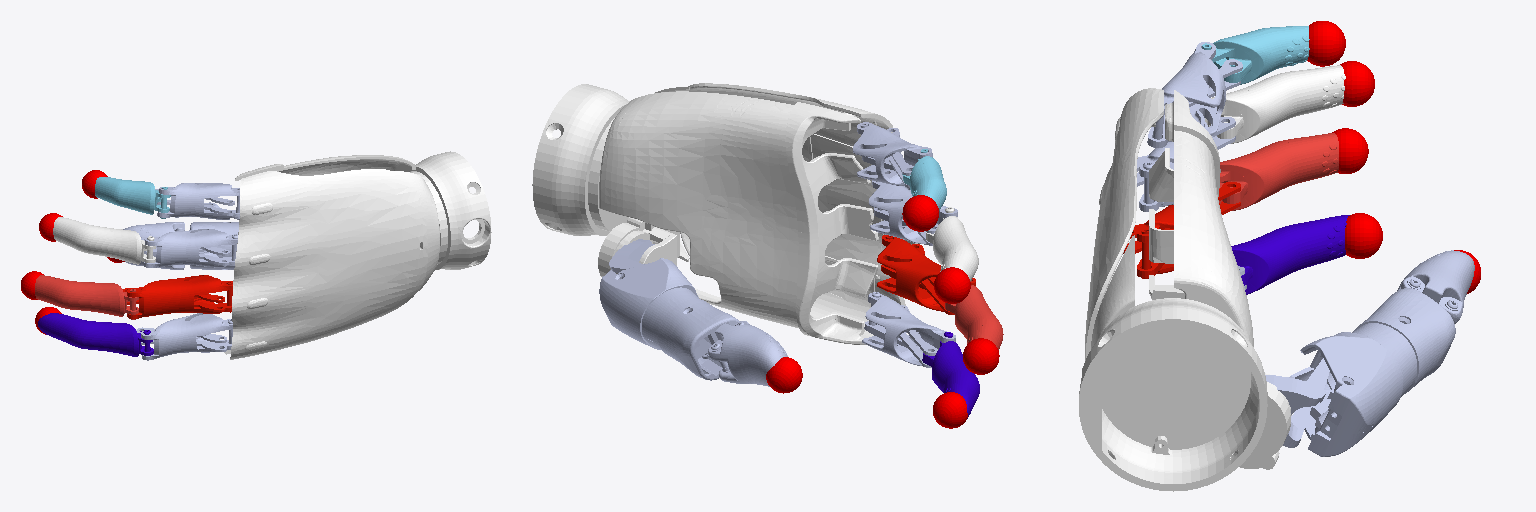
robot.urdf — urdf_v2:
<?xml version="1.0" encoding="utf-8"?>
<!-- This URDF was automatically created by SolidWorks to URDF Exporter! Originally created by [author] ([email redacted]) 
     Commit Version: 1.6.0-4-g7f85cfe  Build Version: 1.6.7995.38578
     For more information, please see http://wiki.ros.org/sw_urdf_exporter -->
<robot
  name="urdf_v2">
  <link
    name="base_link">
    <inertial>
      <origin
        xyz="0.0282680334155116 -0.00155312878370573 0.0090688183026775"
        rpy="0 0 0" />
      <mass
        value="0.0410424762542632" />
      <inertia
        ixx="1.67808110422422E-05"
        ixy="-1.38161155616436E-06"
        ixz="2.77639403016102E-07"
        iyy="1.59956087599769E-05"
        iyz="-2.84757118052629E-07"
        izz="2.62608804201258E-05" />
    </inertial>
    <visual>
      <origin
        xyz="0 0 0"
        rpy="0 0 0" />
      <geometry>
        <mesh
          filename="./base_link.STL" />
      </geometry>
      <material
        name="">
        <color
          rgba="1 1 1 1" />
      </material>
    </visual>
    <collision>
      <origin
        xyz="0 0 0"
        rpy="0 0 0" />
      <geometry>
        <mesh
          filename="./base_link.STL" />
      </geometry>
    </collision>
  </link>
  <link
    name="ff_proximal_link">
    <inertial>
      <origin
        xyz="-0.015386 -0.0066062 -0.0079647"
        rpy="0 0 0" />
      <mass
        value="0.0018523" />
      <inertia
        ixx="8.5863E-08"
        ixy="-4.71E-09"
        ixz="-4.397E-08"
        iyy="1.886E-07"
        iyz="-2.9657E-09"
        izz="1.808E-07" />
    </inertial>
    <visual>
      <origin
        xyz="0 0 0"
        rpy="0 0 0" />
      <geometry>
        <mesh
          filename="./ff_proximal_link.STL" />
      </geometry>
      <material
        name="">
        <color
          rgba="0.79216 0.81961 0.93333 1" />
      </material>
    </visual>
    <collision>
      <origin
        xyz="0 0 0"
        rpy="0 0 0" />
      <geometry>
        <mesh
          filename="./ff_proximal_link.STL" />
      </geometry>
    </collision>
  </link>
  <joint
    name="ff_proximal_joint"
    type="revolute">
    <origin
      xyz="-0.03826 -0.011678 -0.023531"
      rpy="1.5708 0 0" />
    <parent
      link="base_link" />
    <child
      link="ff_proximal_link" />
    <axis
      xyz="0 1 0" />
    <limit
      lower="-1.23"
      upper="0.34"
      effort="50"
      velocity="1" />
  </joint>
  <link
    name="ff_distal_link">
    <inertial>
      <origin
        xyz="-0.0136744559671081 -0.00546355961032156 -0.0194579532929323"
        rpy="0 0 0" />
      <mass
        value="0.00411870576106074" />
      <inertia
        ixx="3.84711901595296E-07"
        ixy="6.16480172234882E-09"
        ixz="-2.5005841513438E-07"
        iyy="5.74190965189268E-07"
        iyz="6.30974065938001E-09"
        izz="2.65068505295533E-07" />
    </inertial>
    <visual>
      <origin
        xyz="0 0 0"
        rpy="0 0 0" />
      <geometry>
        <mesh
          filename="./ff_distal_link.STL" />
      </geometry>
      <material
        name="">
        <color
          rgba="0.282352941176471 0.0313725490196078 0.815686274509804 1" />
      </material>
    </visual>
    <collision>
      <origin
        xyz="0 0 0"
        rpy="0 0 0" />
      <geometry>
        <mesh
          filename="./ff_distal_link.STL" />
      </geometry>
    </collision>
  </link>
  <joint
    name="ff_distal_joint"
    type="revolute">
    <origin
      xyz="-0.033944 -0.0018093 -0.011608"
      rpy="0 0 0" />
    <parent
      link="ff_proximal_link" />
    <child
      link="ff_distal_link" />
    <axis
      xyz="0 1 0" />
    <limit
      lower="-1.23"
      upper="0.34"
      effort="50"
      velocity="1" />
    <mimic 
      joint="ff_proximal_joint" 
      multiplier="1.0" 
      offset="-0." />
  </joint>
  <link
    name="lf_proximal_link">
    <inertial>
      <origin
        xyz="-0.0146092609512682 -0.0055508873917868 -0.00670762165904373"
        rpy="0 0 0" />
      <mass
        value="0.00164259183850072" />
      <inertia
        ixx="7.83650178895857E-08"
        ixy="4.1832976450397E-09"
        ixz="-3.3038131625674E-08"
        iyy="1.37775200510857E-07"
        iyz="3.38529940940638E-09"
        izz="1.31770538978944E-07" />
    </inertial>
    <visual>
      <origin
        xyz="0 0 0"
        rpy="0 0 0" />
      <geometry>
        <mesh
          filename="./lf_proximal_link.STL" />
      </geometry>
      <material
        name="">
        <color
          rgba="0.792156862745098 0.819607843137255 0.933333333333333 1" />
      </material>
    </visual>
    <collision>
      <origin
        xyz="0 0 0"
        rpy="0 0 0" />
      <geometry>
        <mesh
          filename="./lf_proximal_link.STL" />
      </geometry>
    </collision>
  </link>
  <joint
    name="lf_proximal_joint"
    type="revolute">
    <origin
      xyz="-0.033769 -0.011577 0.037146"
      rpy="1.5708 0 0" />
    <parent
      link="base_link" />
    <child
      link="lf_proximal_link" />
    <axis
      xyz="0 1 0" />
    <limit
      lower="-1.23"
      upper="0.34"
      effort="50"
      velocity="1" />
  </joint>
  <link
    name="lf_distal_link">
    <inertial>
      <origin
        xyz="-0.00921516331063749 -0.00657933694076938 -0.0137060475387422"
        rpy="0 0 0" />
      <mass
        value="0.00258549281540904" />
      <inertia
        ixx="1.24448167729541E-07"
        ixy="-7.90147373548682E-10"
        ixz="-5.47338391191158E-08"
        iyy="1.5333214661181E-07"
        iyz="4.20352585186048E-10"
        izz="7.16963433808903E-08" />
    </inertial>
    <visual>
      <origin
        xyz="0 0 0"
        rpy="0 0 0" />
      <geometry>
        <mesh
          filename="./lf_distal_link.STL" />
      </geometry>
      <material
        name="">
        <color
          rgba="0.576470588235294 0.850980392156863 0.945098039215686 1" />
      </material>
    </visual>
    <collision>
      <origin
        xyz="0 0 0"
        rpy="0 0 0" />
      <geometry>
        <mesh
          filename="./lf_distal_link.STL" />
      </geometry>
    </collision>
  </link>
  <joint
    name="lf_distal_joint"
    type="revolute">
    <origin
      xyz="-0.029536 0.0024174 -0.01189"
      rpy="0 0 0" />
    <parent
      link="lf_proximal_link" />
    <child
      link="lf_distal_link" />
    <axis
      xyz="0 1 0" />
    <limit
      lower="-1.23"
      upper="0.34"
      effort="50"
      velocity="1" />
    <mimic 
      joint="lf_proximal_joint" 
      multiplier="1.0" 
      offset="-0." />
  </joint>
  <link
    name="mf_proximal_link">
    <inertial>
      <origin
        xyz="-0.0177059315083575 -0.0068574882263558 -0.00949570438060691"
        rpy="0 0 0" />
      <mass
        value="0.00222072837890887" />
      <inertia
        ixx="1.18469806234159E-07"
        ixy="-2.169203589617E-09"
        ixz="-7.66611865960727E-08"
        iyy="2.82300078965434E-07"
        iyz="-1.01552906952095E-09"
        izz="2.55439925655879E-07" />
    </inertial>
    <visual>
      <origin
        xyz="0 0 0"
        rpy="0 0 0" />
      <geometry>
        <mesh
          filename="./mf_proximal_link.STL" />
      </geometry>
      <material
        name="">
        <color
          rgba="0.913725490196078 0.109803921568627 0.0313725490196078 1" />
      </material>
    </visual>
    <collision>
      <origin
        xyz="0 0 0"
        rpy="0 0 0" />
      <geometry>
        <mesh
          filename="./mf_proximal_link.STL" />
      </geometry>
    </collision>
  </link>
  <joint
    name="mf_proximal_joint"
    type="revolute">
    <origin
      xyz="-0.041118 -0.015454 -0.0028912"
      rpy="1.5708 0 0" />
    <parent
      link="base_link" />
    <child
      link="mf_proximal_link" />
    <axis
      xyz="0 1 0" />
    <limit
      lower="-1.23"
      upper="0.34"
      effort="50"
      velocity="1" />
  </joint>
  <link
    name="mf_distal_link">
    <inertial>
      <origin
        xyz="-0.0143449599107263 -0.0068015916660648 -0.0187410189605281"
        rpy="0 0 0" />
      <mass
        value="0.00411871594900483" />
      <inertia
        ixx="3.77681695290248E-07"
        ixy="-2.6050362803194E-09"
        ixz="-2.51747092435786E-07"
        iyy="5.74182941173459E-07"
        iyz="-3.33591966287697E-09"
        izz="2.72077516511856E-07" />
    </inertial>
    <visual>
      <origin
        xyz="0 0 0"
        rpy="0 0 0" />
      <geometry>
        <mesh
          filename="./mf_distal_link.STL" />
      </geometry>
      <material
        name="">
        <color
          rgba="0.917647058823529 0.305882352941176 0.274509803921569 1" />
      </material>
    </visual>
    <collision>
      <origin
        xyz="0 0 0"
        rpy="0 0 0" />
      <geometry>
        <mesh
          filename="./mf_distal_link.STL" />
      </geometry>
    </collision>
  </link>
  <joint
    name="mf_distal_joint"
    type="revolute">
    <origin
      xyz="-0.038289 -0.00050707 -0.014673"
      rpy="0 0 0" />
    <parent
      link="mf_proximal_link" />
    <child
      link="mf_distal_link" />
    <axis
      xyz="0 1 0" />
    <limit
      lower="-1.23"
      upper="0.34"
      effort="50"
      velocity="1" />
    <mimic 
      joint="mf_proximal_joint" 
      multiplier="1.0" 
      offset="-0." />
  </joint>
  <link
    name="rf_proximal_link">
    <inertial>
      <origin
        xyz="-0.0159574731093167 -0.00508699297495175 -0.00788653991870907"
        rpy="0 0 0" />
      <mass
        value="0.00185229291559554" />
      <inertia
        ixx="8.87960405276781E-08"
        ixy="5.65163102187985E-09"
        ixz="-4.67021204809698E-08"
        iyy="1.8840957230307E-07"
        iyz="2.64384772912068E-09"
        izz="1.78055276074851E-07" />
    </inertial>
    <visual>
      <origin
        xyz="0 0 0"
        rpy="0 0 0" />
      <geometry>
        <mesh
          filename="./rf_proximal_link.STL" />
      </geometry>
      <material
        name="">
        <color
          rgba="0.792156862745098 0.819607843137255 0.933333333333333 1" />
      </material>
    </visual>
    <collision>
      <origin
        xyz="0 0 0"
        rpy="0 0 0" />
      <geometry>
        <mesh
          filename="./rf_proximal_link.STL" />
      </geometry>
    </collision>
  </link>
  <joint
    name="rf_proximal_joint"
    type="revolute">
    <origin
      xyz="-0.037956 -0.014704 0.016541"
      rpy="1.5708 0 0" />
    <parent
      link="base_link" />
    <child
      link="rf_proximal_link" />
    <axis
      xyz="0 1 0" />
    <limit
      lower="-1.23"
      upper="0.34"
      effort="50"
      velocity="1" />
  </joint>
  <link
    name="rf_distal_link">
    <inertial>
      <origin
        xyz="-0.0132013672271961 -0.00525332333018323 -0.0198360245917965"
        rpy="0 0 0" />
      <mass
        value="0.00411813438505178" />
      <inertia
        ixx="4.17567964091139E-07"
        ixy="8.83792091169937E-09"
        ixz="-2.39623187984756E-07"
        iyy="5.73527691798747E-07"
        iyz="1.35350117823584E-08"
        izz="2.3247215276718E-07" />
    </inertial>
    <visual>
      <origin
        xyz="0 0 0"
        rpy="0 0 0" />
      <geometry>
        <mesh
          filename="./rf_distal_link.STL" />
      </geometry>
      <material
        name="">
        <color
          rgba="1 1 1 1" />
      </material>
    </visual>
    <collision>
      <origin
        xyz="0 0 0"
        rpy="0 0 0" />
      <geometry>
        <mesh
          filename="./rf_distal_link.STL" />
      </geometry>
    </collision>
  </link>
  <joint
    name="rf_distal_joint"
    type="revolute">
    <origin
      xyz="-0.03359 0.0018994 -0.012583"
      rpy="0 0 0" />
    <parent
      link="rf_proximal_link" />
    <child
      link="rf_distal_link" />
    <axis
      xyz="0 1 0" />
    <limit
      lower="-1.23"
      upper="0.34"
      effort="50"
      velocity="1" />
    <mimic 
      joint="rf_proximal_joint" 
      multiplier="1.0" 
      offset="-0." />
  </joint>
  <link
    name="th_link_1">
    <inertial>
      <origin
        xyz="0.00270659292318193 -0.00468066434180406 -0.00150236387262136"
        rpy="0 0 0" />
      <mass
        value="0.00211540567417261" />
      <inertia
        ixx="1.7524535629557E-07"
        ixy="-5.50208752881828E-08"
        ixz="-4.43809324813235E-09"
        iyy="1.42495552210395E-07"
        iyz="-2.42530529882035E-08"
        izz="1.70635228042348E-07" />
    </inertial>
    <visual>
      <origin
        xyz="0 0 0"
        rpy="0 0 0" />
      <geometry>
        <mesh
          filename="./th_link_1.STL" />
      </geometry>
      <material
        name="">
        <color
          rgba="0.792156862745098 0.819607843137255 0.933333333333333 1" />
      </material>
    </visual>
    <collision>
      <origin
        xyz="0 0 0"
        rpy="0 0 0" />
      <geometry>
        <mesh
          filename="./th_link_1.STL" />
      </geometry>
    </collision>
  </link>
  <joint
    name="th_joint_1"
    type="revolute">
    <origin
      xyz="0.028856 0.014535 -0.018759"
      rpy="1.5708 0 0" />
    <parent
      link="base_link" />
    <child
      link="th_link_1" />
    <axis
      xyz="1 0 0" />
    <limit
      lower="1.2"
      upper="1.2"
      effort="50"
      velocity="1" />
  </joint>
  <link
    name="th_link_2">
    <inertial>
      <origin
        xyz="-0.00834633647940502 -0.00790061639194979 -0.0025612163065322"
        rpy="0 0 0" />
      <mass
        value="0.0066634254339578" />
      <inertia
        ixx="4.79987278390943E-07"
        ixy="2.81861563990933E-11"
        ixz="-4.91467867848404E-07"
        iyy="2.21316128962266E-06"
        iyz="-8.06170404221075E-11"
        izz="1.8860706671632E-06" />
    </inertial>
    <visual>
      <origin
        xyz="0 0 0"
        rpy="0 0 0" />
      <geometry>
        <mesh
          filename="./th_link_2.STL" />
      </geometry>
      <material
        name="">
        <color
          rgba="0.792156862745098 0.819607843137255 0.933333333333333 1" />
      </material>
    </visual>
    <collision>
      <origin
        xyz="0 0 0"
        rpy="0 0 0" />
      <geometry>
        <mesh
          filename="./th_link_2.STL" />
      </geometry>
    </collision>
  </link>
  <joint
    name="th_joint_2"
    type="revolute">
    <origin
      xyz="-0.013434 -0.026438 -0.014086"
      rpy="-1.5678 -0.21839 -0.00065226" />
    <parent
      link="th_link_1" />
    <child
      link="th_link_2" />
    <axis
      xyz="0 1 0" />
    <limit
      lower="0.0"
      upper="0.34"
      effort="50"
      velocity="1" />
  </joint>
  <link
    name="th_link_3">
    <inertial>
      <origin
        xyz="-0.0213045047900868 -0.00350583745128136 0.000499870962888962"
        rpy="0 0 0" />
      <mass
        value="0.00503417004238488" />
      <inertia
        ixx="1.99445023591198E-07"
        ixy="1.59270498707835E-12"
        ixz="-5.81633739950867E-08"
        iyy="2.35221266539737E-07"
        iyz="-1.81601613420279E-12"
        izz="2.67880566003001E-07" />
    </inertial>
    <visual>
      <origin
        xyz="0 0 0"
        rpy="0 0 0" />
      <geometry>
        <mesh
          filename="./th_link_3.STL" />
      </geometry>
      <material
        name="">
        <color
          rgba="0.792156862745098 0.819607843137255 0.933333333333333 1" />
      </material>
    </visual>
    <collision>
      <origin
        xyz="0 0 0"
        rpy="0 0 0" />
      <geometry>
        <mesh
          filename="./th_link_3.STL" />
      </geometry>
    </collision>
  </link>
  <joint
    name="th_joint_3"
    type="revolute">
    <origin
      xyz="-0.028136 -0.0044434 -0.01595"
      rpy="0 0 0" />
    <parent
      link="th_link_2" />
    <child
      link="th_link_3" />
    <axis
      xyz="0 1 0" />
    <limit
      lower="0.0"
      upper="0.34"
      effort="50"
      velocity="1" />
    <mimic 
      joint="th_joint_2" 
      multiplier="1.0" 
      offset="-0." />
  </joint>

  <!-- add finger tips for convenience -->
  <link name='thumb_tip'>
    <visual>
        <geometry>
          <sphere radius="0.006" />
        </geometry>
        <material name="red">
          <color rgba="1 0 0 0.5" />
        </material>
      </visual>
  </link>
  <joint name="thumb_tip_joint" type="fixed">
    <origin xyz="-0.035 -0.005 -0.005" rpy="0 0 0"/>
    <parent link="th_link_3"/>
    <child link="thumb_tip"/>
  </joint>
  <link name='index_tip'>
    <visual>
        <geometry>
          <sphere radius="0.006" />
        </geometry>
        <material name="red">
          <color rgba="1 0 0 0.5" />
        </material>
      </visual>
  </link>
  <joint name="index_tip_joint" type="fixed">
    <origin xyz="-0.024 -0.005 -0.04" rpy="0 0 0"/>
    <parent link="ff_distal_link"/>
    <child link="index_tip"/>
  </joint>
  <link name='middle_tip'>
    <visual>
        <geometry>
          <sphere radius="0.006" />
        </geometry>
        <material name="red">
          <color rgba="1 0 0 0.5" />
        </material>
      </visual>
  </link>
  <joint name="middle_tip_joint" type="fixed">
    <origin xyz="-0.026 -0.007 -0.037" rpy="0 0 0"/>
    <parent link="mf_distal_link"/>
    <child link="middle_tip"/>
  </joint>
  <link name='ring_tip'>
    <visual>
        <geometry>
          <sphere radius="0.006" />
        </geometry>
        <material name="red">
          <color rgba="1 0 0 0.5" />
        </material>
      </visual>
  </link>
  <joint name="ring_tip_joint" type="fixed">
    <origin xyz="-0.024 -0.005 -0.04" rpy="0 0 0"/>
    <parent link="rf_distal_link"/>
    <child link="ring_tip"/>
  </joint>
  <link name='pinky_tip'>
    <visual>
        <geometry>
          <sphere radius="0.006" />
        </geometry>
        <material name="red">
          <color rgba="1 0 0 0.5" />
        </material>
      </visual>
  </link>
  <joint name="pinky_tip_joint" type="fixed">
    <origin xyz="-0.016 -0.007 -0.030" rpy="0 0 0"/>
    <parent link="lf_distal_link"/>
    <child link="pinky_tip"/>
  </joint>

</robot>

--- Render facts (derived) ---
3 views of the same robot in one strip: view 1: azimuth 30°, elevation 25°; view 2: azimuth 150°, elevation 25°; view 3: azimuth 270°, elevation 25° (orthographic).
Model urdf_v2 with 17 links and 16 joints (11 revolute, 5 fixed), rooted at base_link, posed all joints at 0 but 1 set to mid-range because 0 is outside their limits (th_joint_1 = 1.2).
Links seen in each view (by area): view 1: base_link, mf_proximal_link, ff_distal_link, ff_proximal_link, rf_proximal_link, rf_distal_link, mf_distal_link, lf_proximal_link, lf_distal_link, th_link_3, th_link_2; view 2: base_link, th_link_2, ff_proximal_link, th_link_3, mf_proximal_link, lf_proximal_link, rf_proximal_link, ff_distal_link, rf_distal_link, mf_distal_link, lf_distal_link, pinky_tip (+5 smaller); view 3: base_link, th_link_2, rf_distal_link, mf_distal_link, ff_distal_link, lf_proximal_link, lf_distal_link, th_link_3, th_link_1, mf_proximal_link, index_tip, pinky_tip (+3 smaller).
Boxes of the visible links, x1=… form: base_link: x1=224, y1=151, x2=491, y2=359; mf_proximal_link: x1=123, y1=275, x2=232, y2=318; ff_distal_link: x1=38, y1=313, x2=153, y2=356; ff_proximal_link: x1=136, y1=313, x2=232, y2=360; rf_proximal_link: x1=141, y1=229, x2=237, y2=267; rf_distal_link: x1=53, y1=217, x2=155, y2=264; mf_distal_link: x1=35, y1=275, x2=138, y2=319; lf_proximal_link: x1=155, y1=183, x2=239, y2=219; lf_distal_link: x1=95, y1=177, x2=170, y2=218; th_link_3: x1=123, y1=222, x2=184, y2=269; th_link_2: x1=190, y1=222, x2=238, y2=269; base_link: x1=532, y1=83, x2=917, y2=344; th_link_2: x1=599, y1=258, x2=739, y2=380; ff_proximal_link: x1=862, y1=292, x2=955, y2=367; th_link_3: x1=708, y1=321, x2=787, y2=386; mf_proximal_link: x1=877, y1=235, x2=975, y2=314; lf_proximal_link: x1=853, y1=122, x2=932, y2=187; rf_proximal_link: x1=869, y1=181, x2=957, y2=245; ff_distal_link: x1=922, y1=332, x2=979, y2=418; rf_distal_link: x1=926, y1=207, x2=978, y2=280; mf_distal_link: x1=945, y1=279, x2=1003, y2=349; lf_distal_link: x1=902, y1=149, x2=946, y2=210; pinky_tip: x1=902, y1=195, x2=938, y2=231; base_link: x1=1079, y1=88, x2=1291, y2=491; th_link_2: x1=1289, y1=287, x2=1455, y2=456; rf_distal_link: x1=1205, y1=65, x2=1345, y2=143; mf_distal_link: x1=1219, y1=133, x2=1338, y2=210; ff_distal_link: x1=1231, y1=215, x2=1349, y2=294; lf_proximal_link: x1=1147, y1=42, x2=1242, y2=147; lf_distal_link: x1=1202, y1=26, x2=1309, y2=84; th_link_3: x1=1397, y1=250, x2=1474, y2=323; th_link_1: x1=1265, y1=358, x2=1330, y2=447; mf_proximal_link: x1=1123, y1=182, x2=1240, y2=278; index_tip: x1=1345, y1=213, x2=1382, y2=258; pinky_tip: x1=1307, y1=21, x2=1345, y2=66.
Bounding box of the posed robot: 0.1867 × 0.1044 × 0.0819 m (x, y, z).
12 mesh visuals loaded from 12 distinct referenced files (12 binary STL).